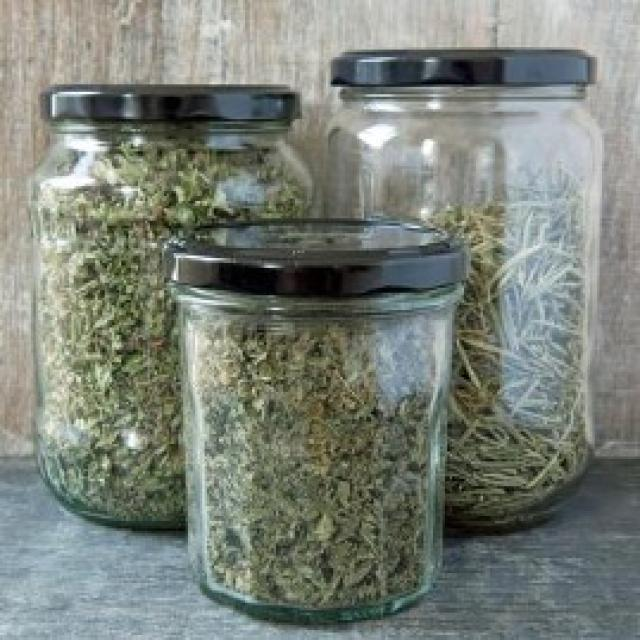electronic: (34, 37, 598, 625)
